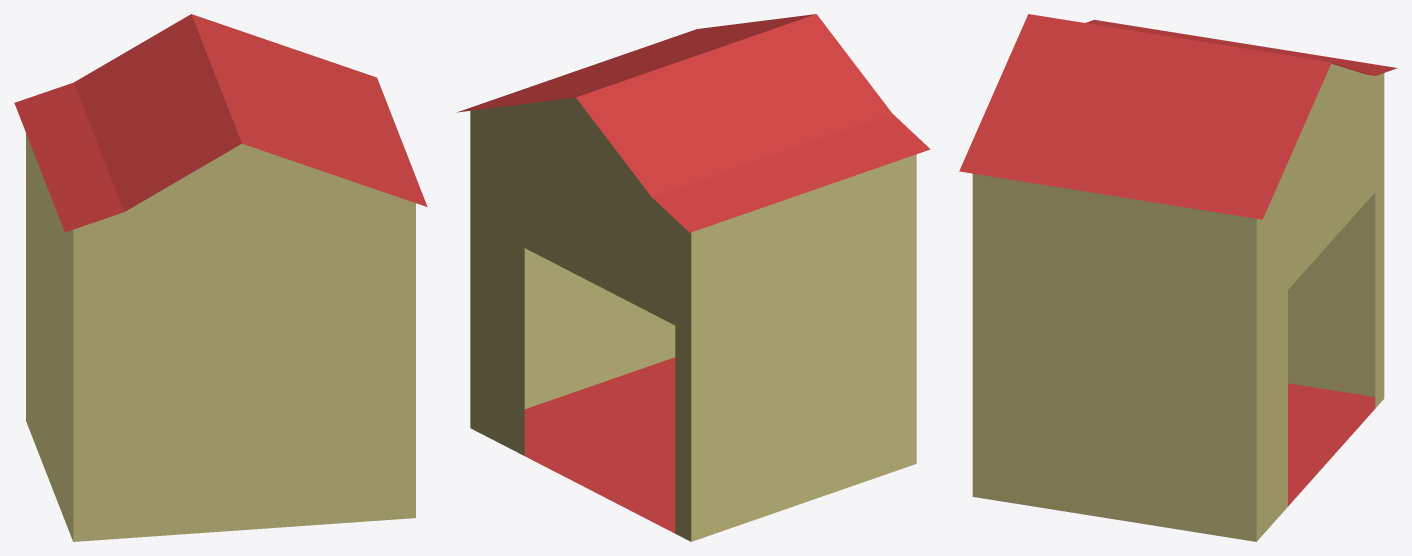
3 views of the same model, side by side, from view 1: azimuth 30°, elevation 25°; view 2: azimuth 150°, elevation 25°; view 3: azimuth 270°, elevation 25° (orthographic). The views are drawn at different scales.
Bounding box in the file's own units: 11.29 × 10.47 × 10.73.
